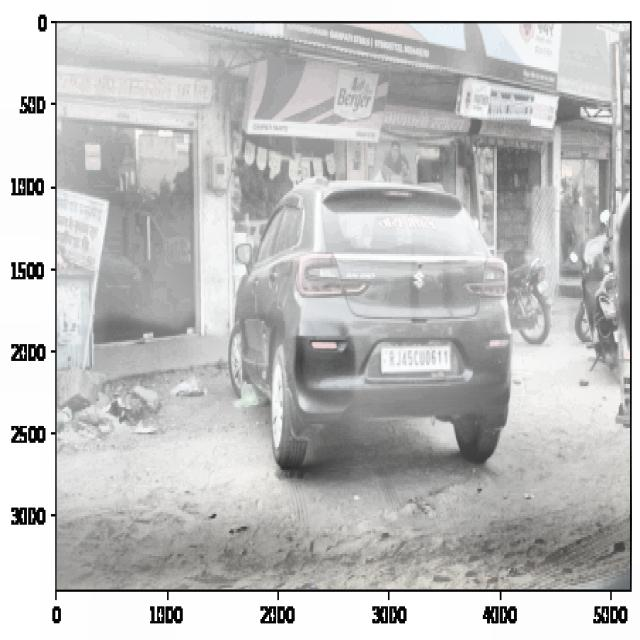license_plate: (382, 342, 453, 375)
